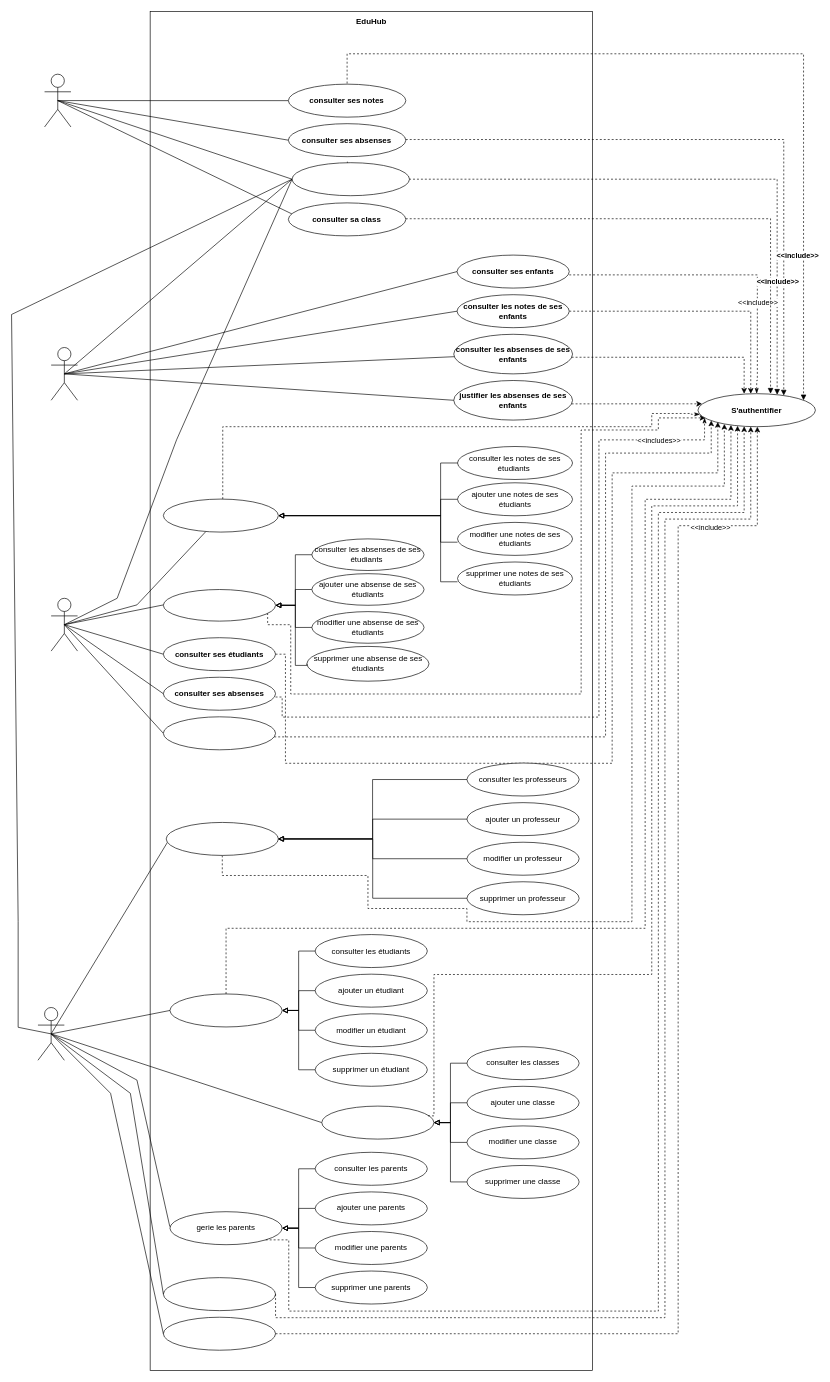
Some shapes in this 830 by 1382 pixel diagram are drawn without their labels. The shapes that lost their labels are listed below. From the top down, each one's box as (x1, y1, x2, y2) in pixels, then its label:
(44, 74, 71, 127): Étudiant
(291, 162, 410, 196): consulter son profile
(50, 347, 78, 400): Parent
(163, 498, 278, 532): gerer les notes de ses étudiants
(50, 598, 78, 651): Professeur
(163, 589, 276, 621): gerer les absense de ses étudiants
(163, 716, 276, 750): justifier ses absenses
(166, 822, 278, 855): gerie les professeur
(169, 993, 282, 1027): gerie les étudiants
(37, 1007, 64, 1060): Administrateur
(321, 1105, 434, 1139): gerie les classes
(163, 1277, 276, 1311): consulter les justification
(163, 1317, 276, 1350): accepter ou refuser une justification
